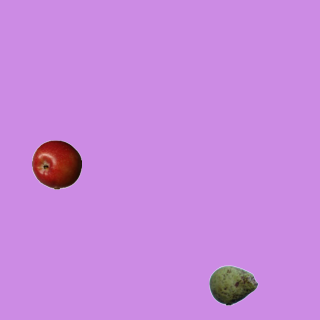Apple Braeburn: (31, 139, 81, 189)
Pear Stone: (208, 260, 258, 310)
